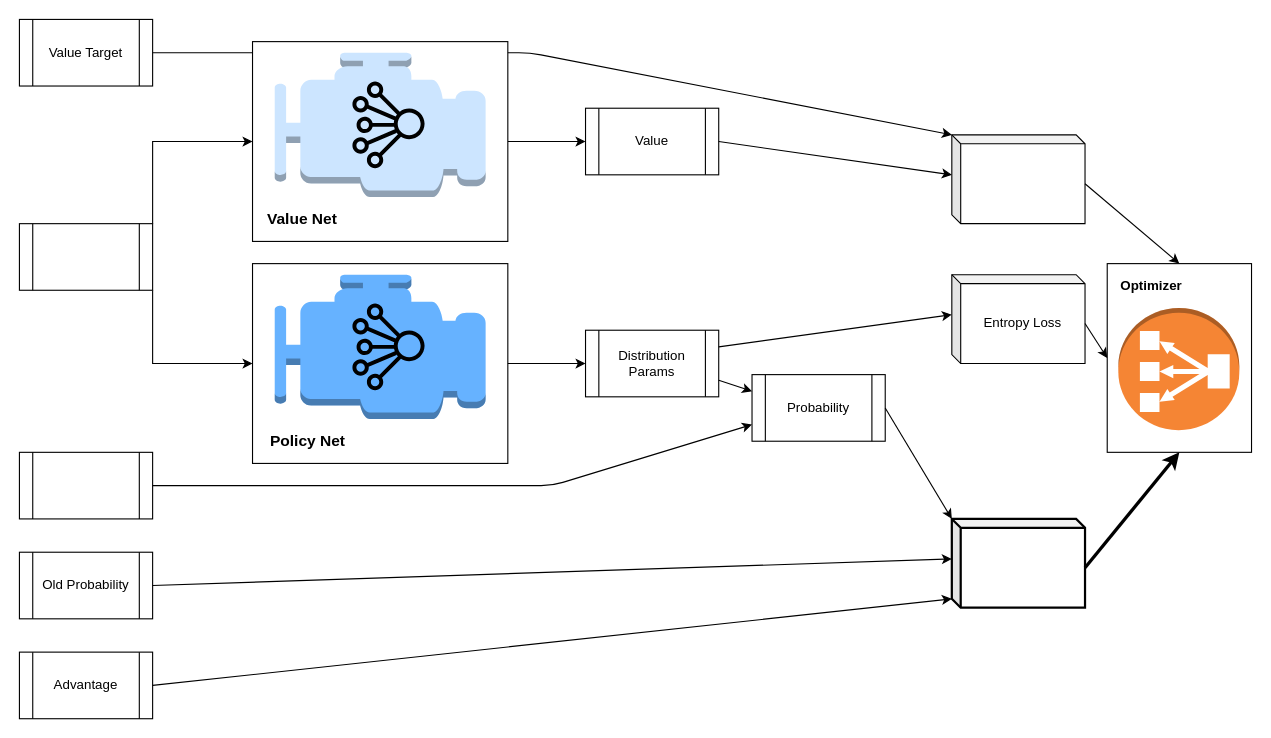
Image size: 1271x738. Some labels were removed from this diagram. The centre of each missing label's shape, as x and y in pixels:
"Observation" goes at pixel 85 256.
"Old Action" goes at pixel 85 485.
"Policy Loss" goes at pixel 1018 562.
"Value Loss" goes at pixel 1018 179.
